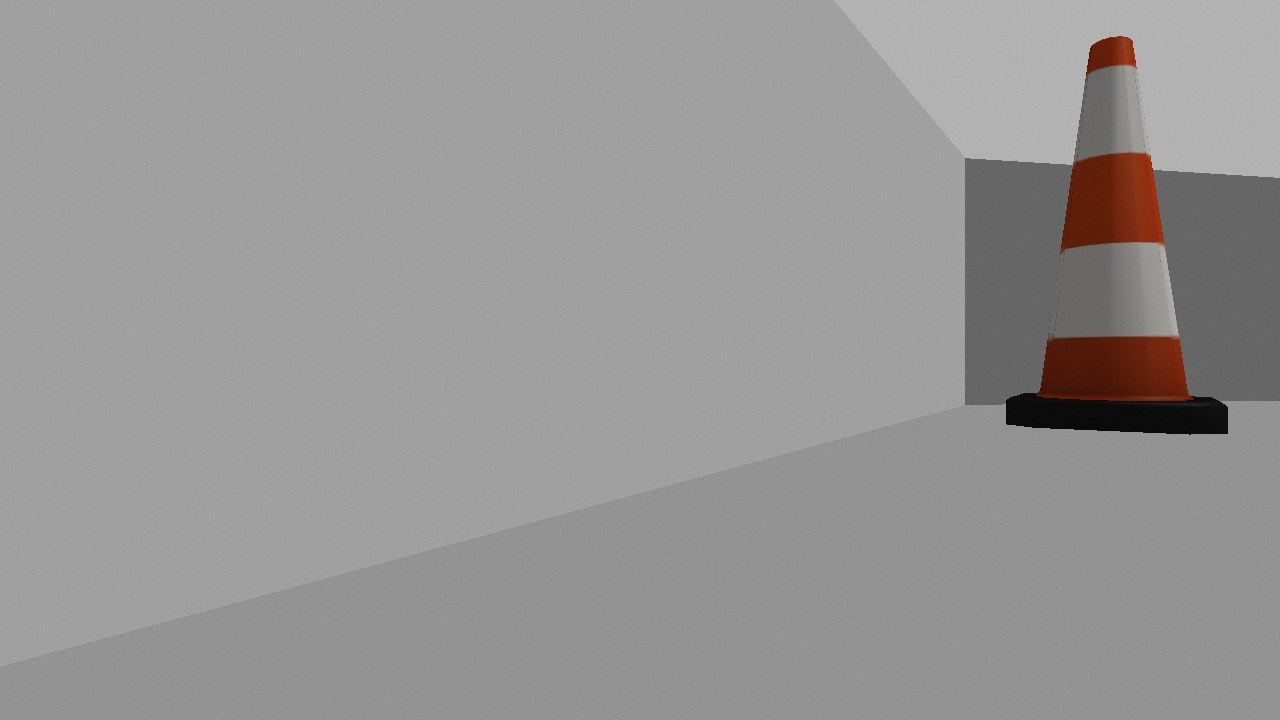barricade: (1005, 36, 1227, 434)
